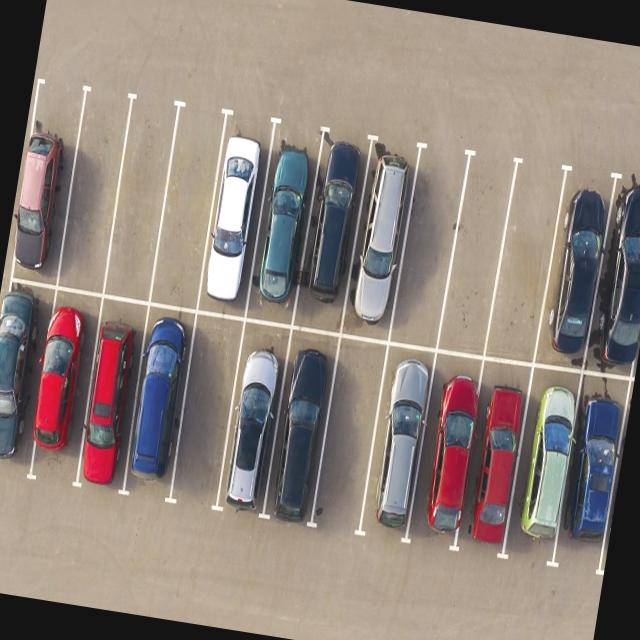car: (453, 357, 537, 559), (502, 364, 586, 566), (5, 78, 86, 286), (552, 372, 634, 576), (194, 112, 275, 316), (405, 352, 488, 550), (533, 172, 616, 367), (292, 130, 372, 331), (243, 128, 322, 324), (119, 302, 198, 496), (341, 143, 418, 340), (358, 348, 436, 541), (25, 288, 104, 478), (264, 329, 342, 521), (72, 296, 150, 488), (216, 319, 292, 509), (586, 180, 640, 372), (0, 280, 56, 465)
free: (52, 85, 136, 291), (483, 162, 568, 362), (100, 93, 182, 300), (146, 103, 228, 309), (386, 148, 469, 350), (436, 153, 517, 354), (310, 337, 390, 534), (167, 312, 247, 506)
